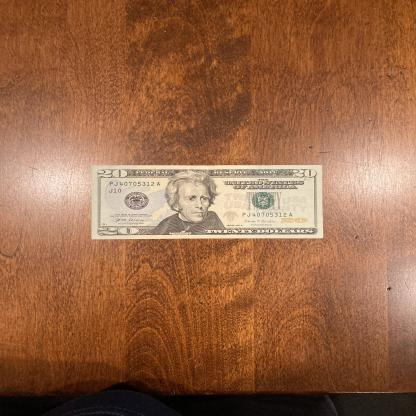twenty-front: (91, 164, 324, 240)
